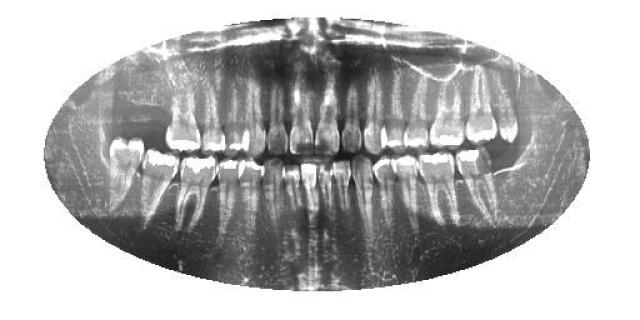Cavity: (456, 148, 499, 222)
Fillings: (136, 148, 180, 226), (176, 156, 218, 232), (458, 148, 498, 222), (419, 153, 459, 225), (427, 82, 465, 146), (165, 89, 203, 152), (402, 78, 432, 150), (216, 157, 242, 235), (239, 158, 265, 234), (200, 85, 228, 153), (373, 156, 395, 232), (398, 154, 417, 230)
